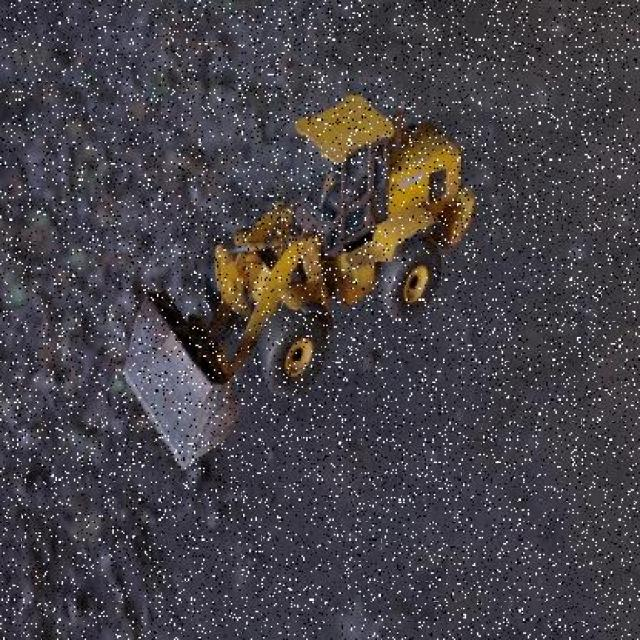buldozerpayloadergrader: (120, 94, 474, 474)
